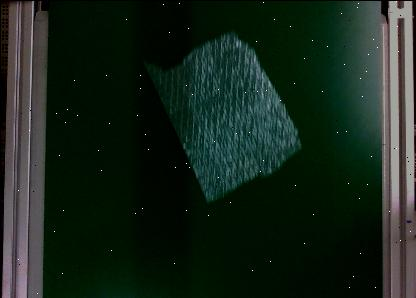Others: (140, 31, 306, 203)
